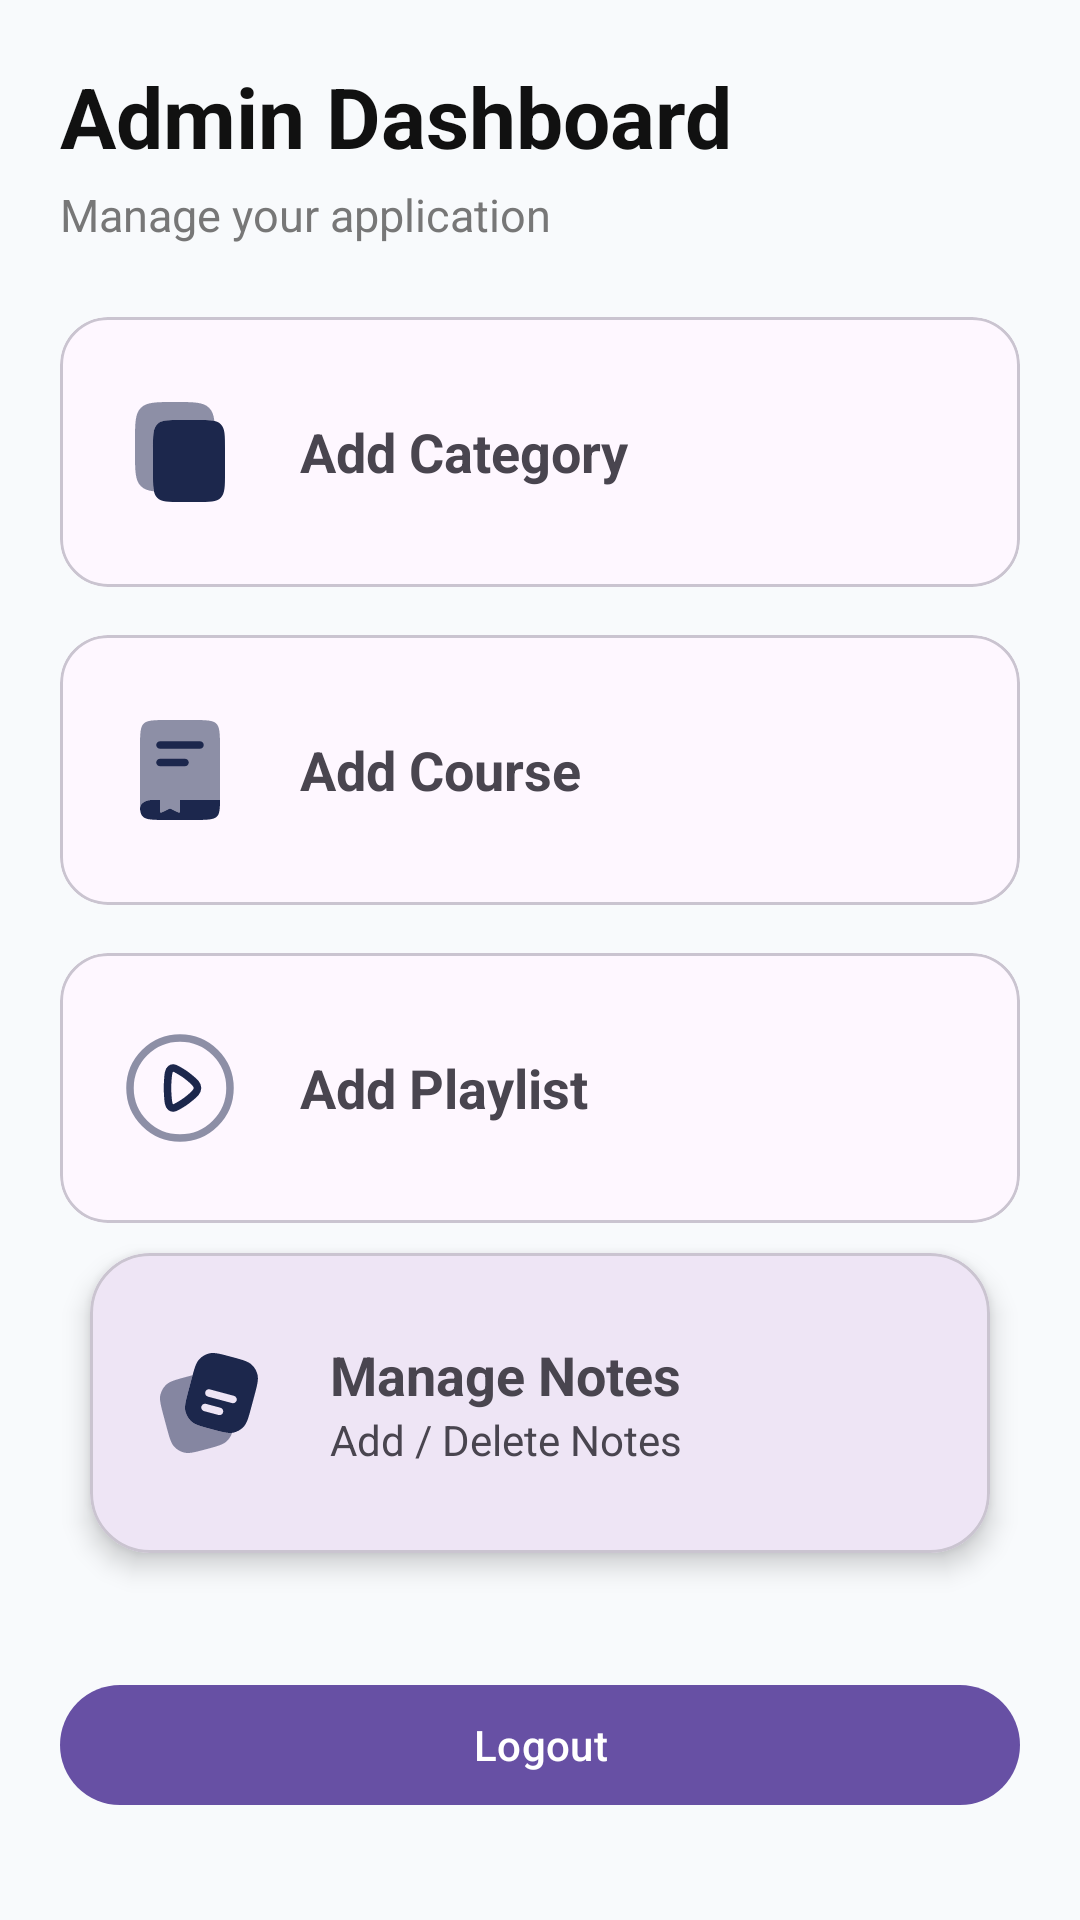

Icon click points for this 1080px x 1920px phone screenshot, format [x,y]:
guide: [180,770]
